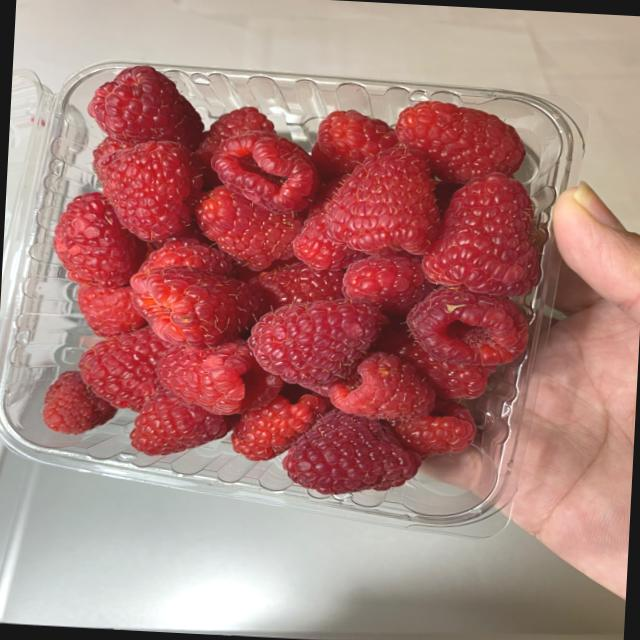raspberries: (38, 71, 536, 506)
